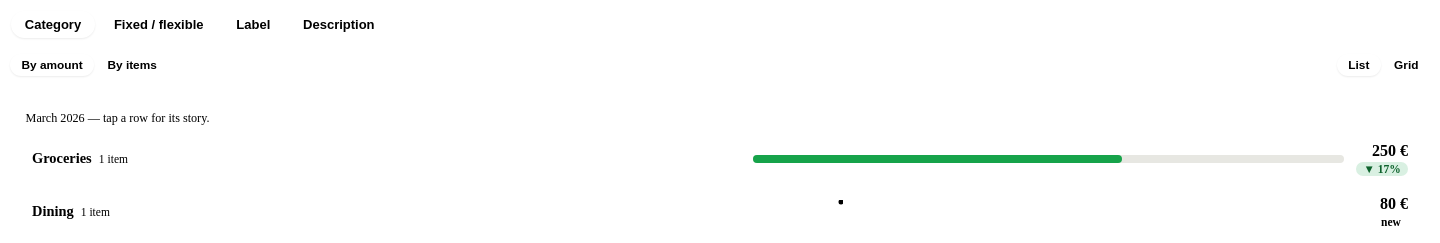
Scenario: SpendingView › keeps the exact grid one tap away, with the group-by control out of the way
This screenshot has width=1440, height=243.
expect the radio button labelled "Label" is shown: met, box top-left (223, 11), bottom-right (284, 38)
What coordinates should you click on to do the following:
click the radio button labelled "Grid"
I would click on:
 (1406, 65)
Its box is top-left (1383, 54), bottom-right (1430, 76).
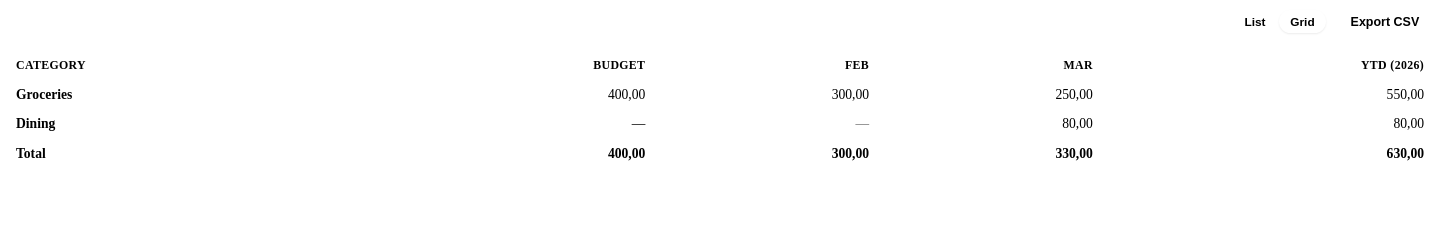
expect the column heading "YTD (2026)" is shown: met, box top-left (1101, 52), bottom-right (1432, 80)
expect the radio button labelled "Label" is gone: met
expect the button "Export CSV" is shown: met, box top-left (1338, 11), bottom-right (1432, 33)
